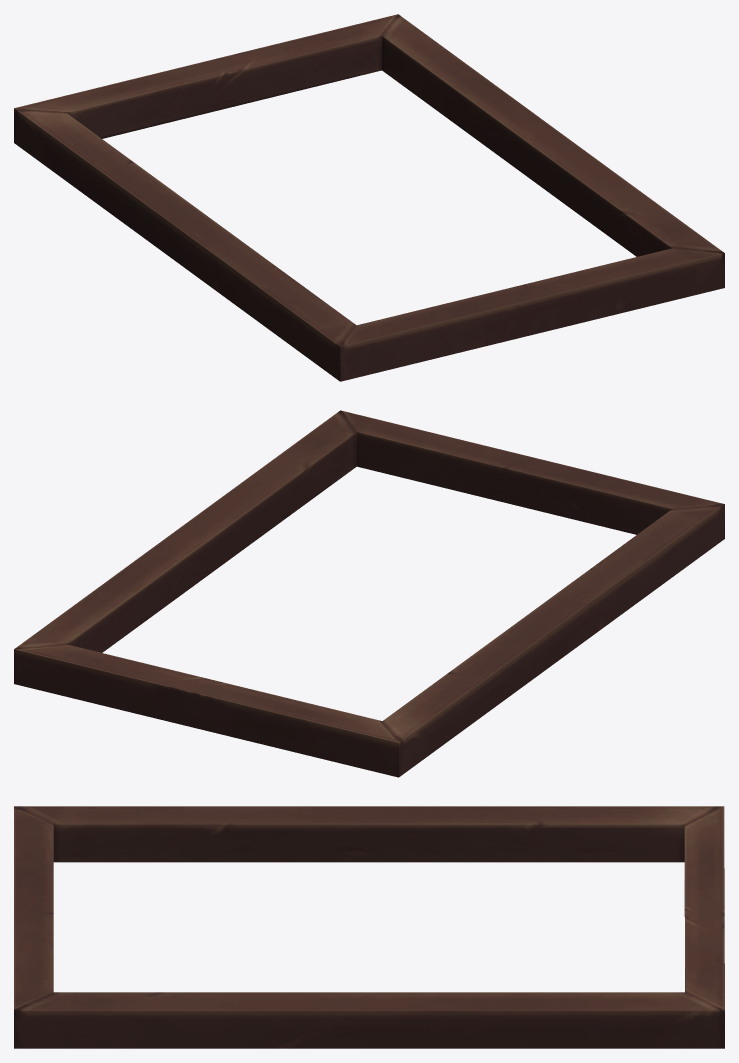
The model's file is sn_jixie_fangkuang_001.FBX.
The picture shows the model from 3 angles, top to bottom: view 1: azimuth 30°, elevation 25°; view 2: azimuth 150°, elevation 25°; view 3: azimuth 270°, elevation 25°; orthographic projection. The views are drawn at different scales.
Visible parts, largest first — view 1: sn_jixie_fangkuang_001; view 2: sn_jixie_fangkuang_001; view 3: sn_jixie_fangkuang_001.
Boxes of the visible parts, box(x1,y1,x2,y2) form: sn_jixie_fangkuang_001: box(14, 14, 724, 381); sn_jixie_fangkuang_001: box(14, 410, 724, 777); sn_jixie_fangkuang_001: box(14, 806, 724, 1048).
Bounding box in the file's own units: 19.56 × 28.76 × 1.69.
